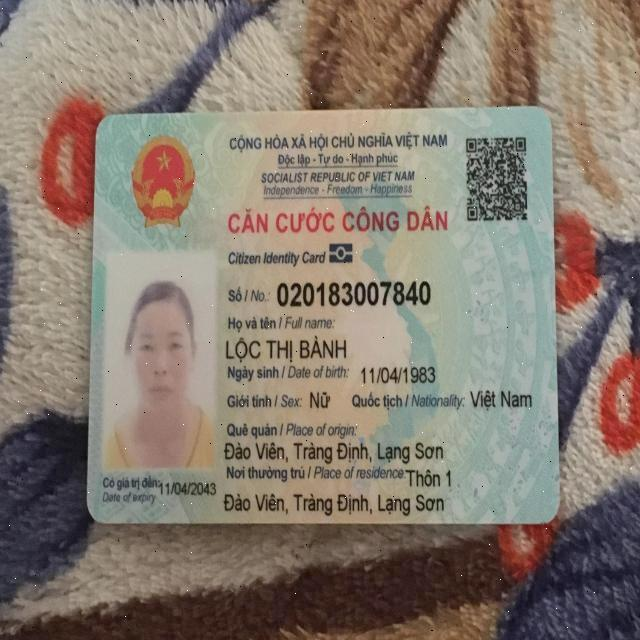current_place: (220, 487, 446, 519), (404, 467, 457, 492)
dob: (355, 362, 442, 387)
expire_date: (159, 481, 220, 499)
gender: (302, 383, 337, 415)
id: (274, 279, 431, 312)
name: (219, 336, 351, 364)
nationality: (468, 381, 533, 418)
origin_place: (219, 435, 451, 466)
